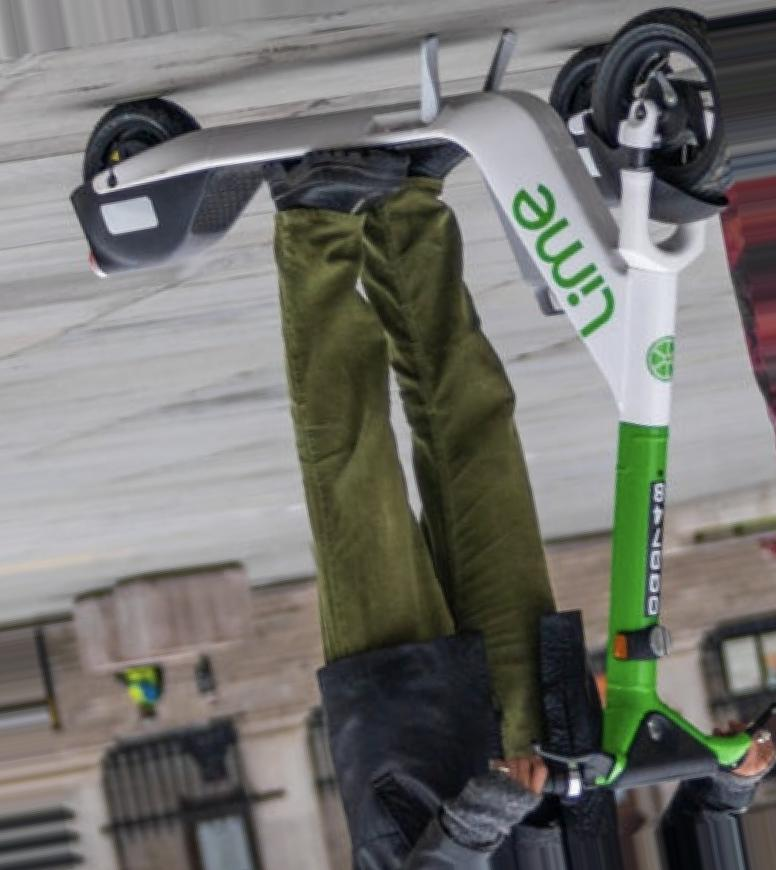scooter: (70, 6, 776, 806)
